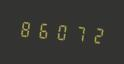eight: (18, 16, 34, 41)
seven: (69, 20, 85, 45)
six: (35, 17, 51, 43)
two: (86, 22, 102, 47)
zero: (52, 19, 68, 44)
